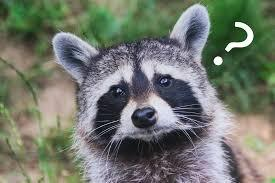raccoon: (31, 0, 275, 183)
